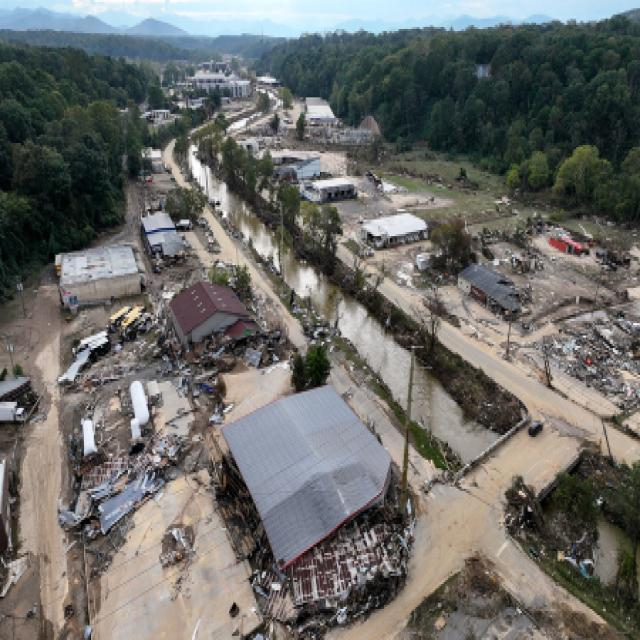damage: (223, 385, 388, 599), (82, 471, 262, 640), (535, 299, 637, 424), (57, 244, 144, 309), (169, 282, 255, 338), (280, 153, 356, 199), (459, 265, 518, 311), (58, 333, 108, 383), (361, 211, 428, 244), (141, 213, 183, 257), (0, 377, 30, 423), (131, 381, 149, 439), (303, 99, 336, 126), (81, 420, 97, 454)
